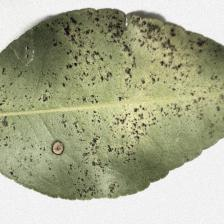canker: (19, 12, 165, 188)
